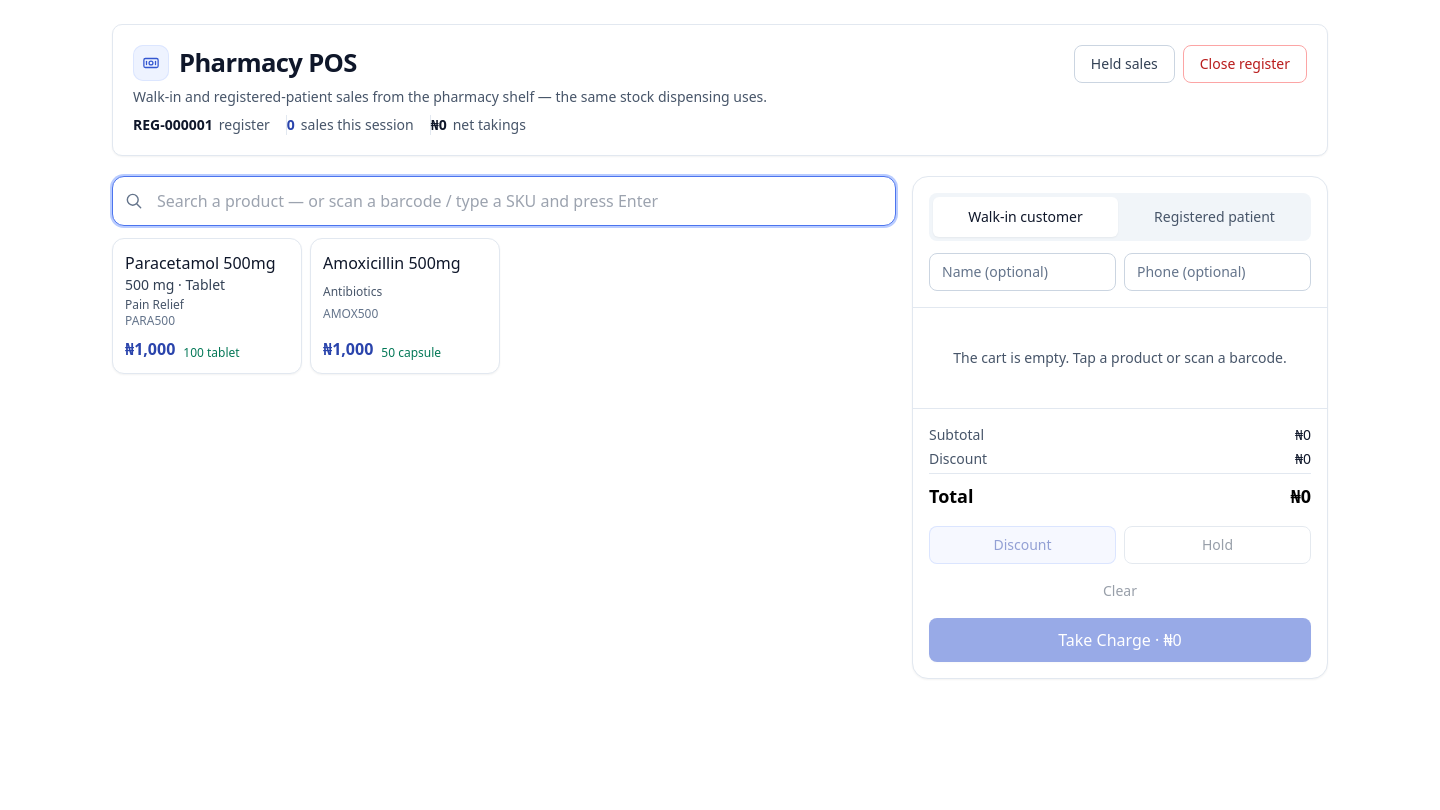
discounting one item › shows the original struck through and the net beside it
Click the button "Paracetamol 500mg": (207, 306) [112,238,302,374]
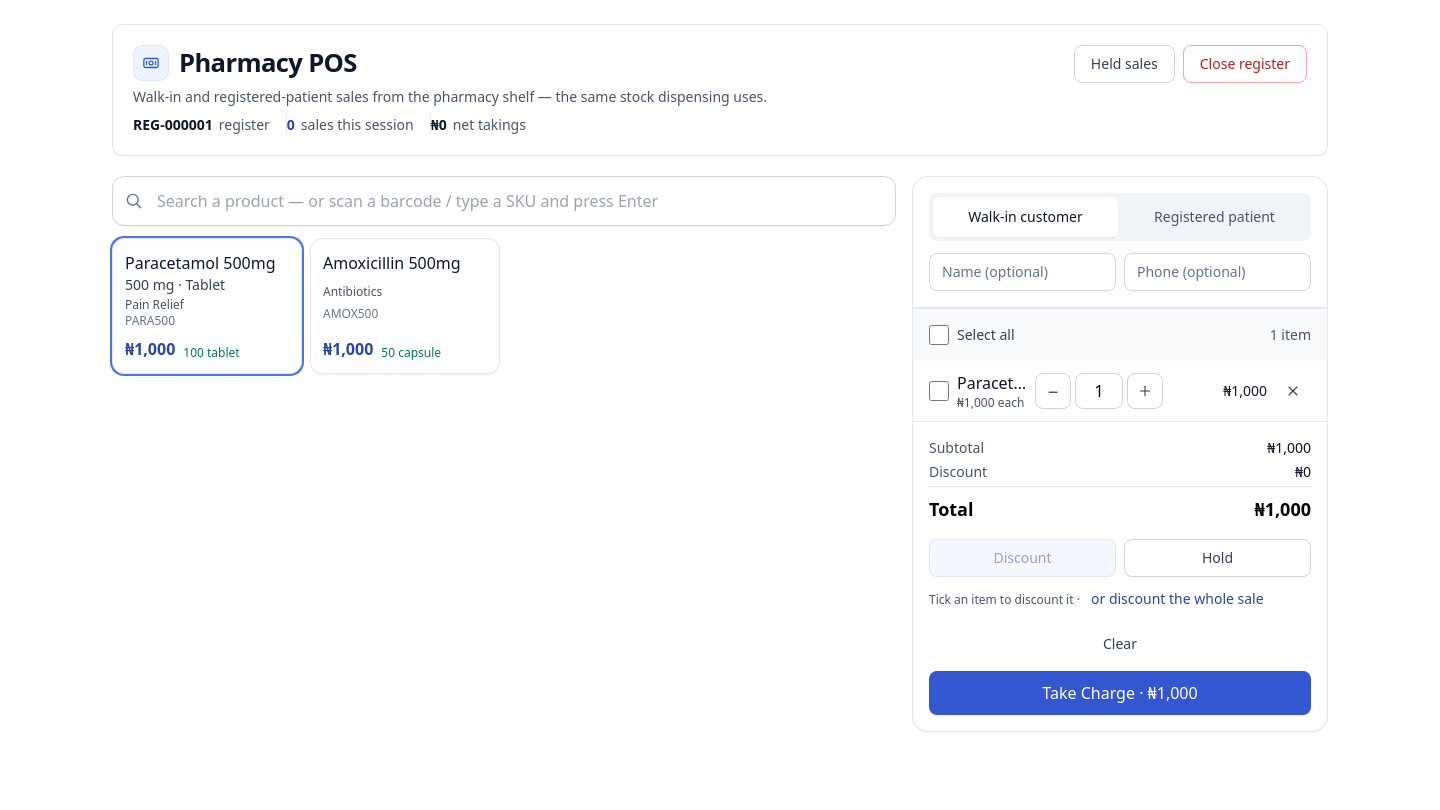
Click the checkbox named "Select Paracetamol 500mg": (939, 391) [929,381,949,401]
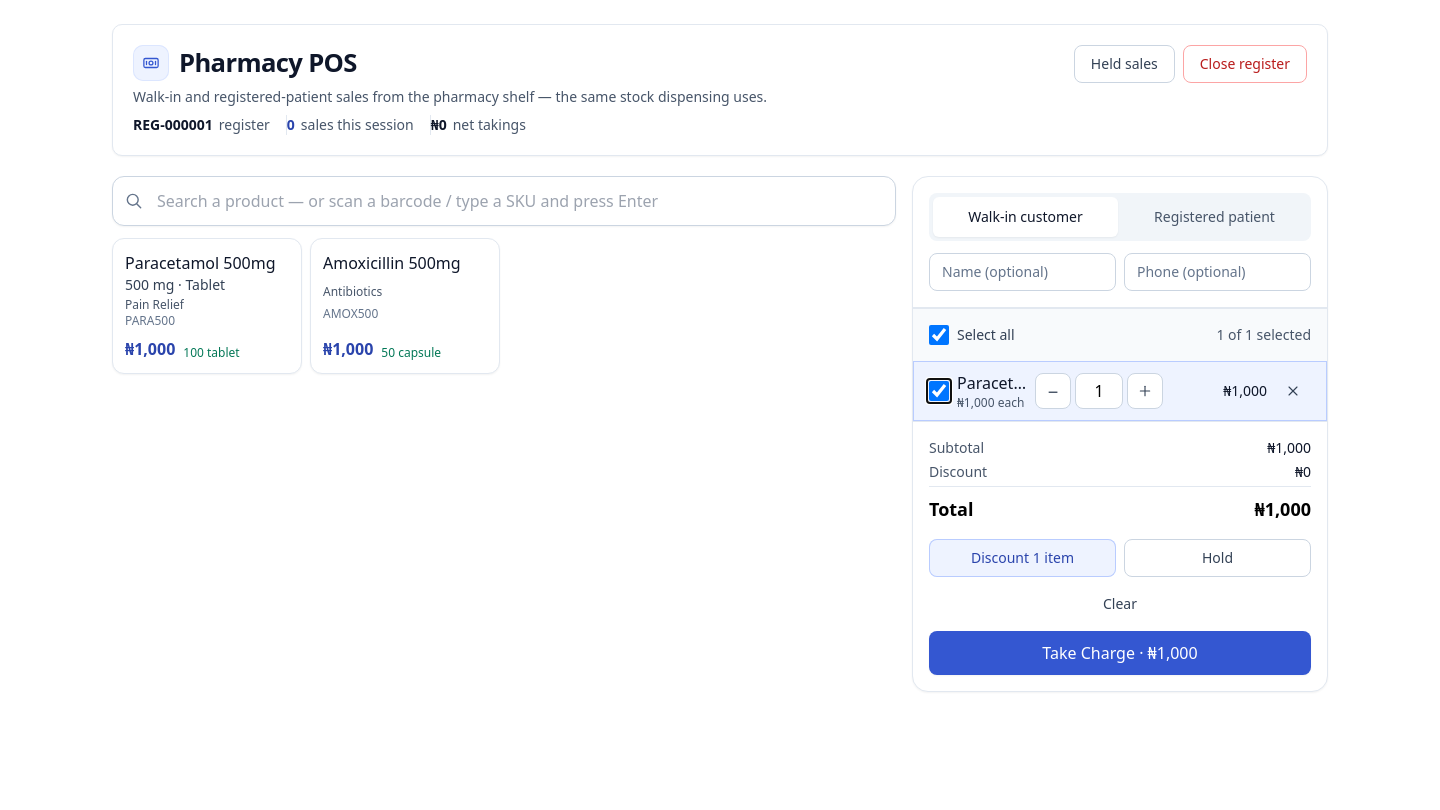
Click the button "Discount 1 item": (1022, 558) [929,539,1116,577]
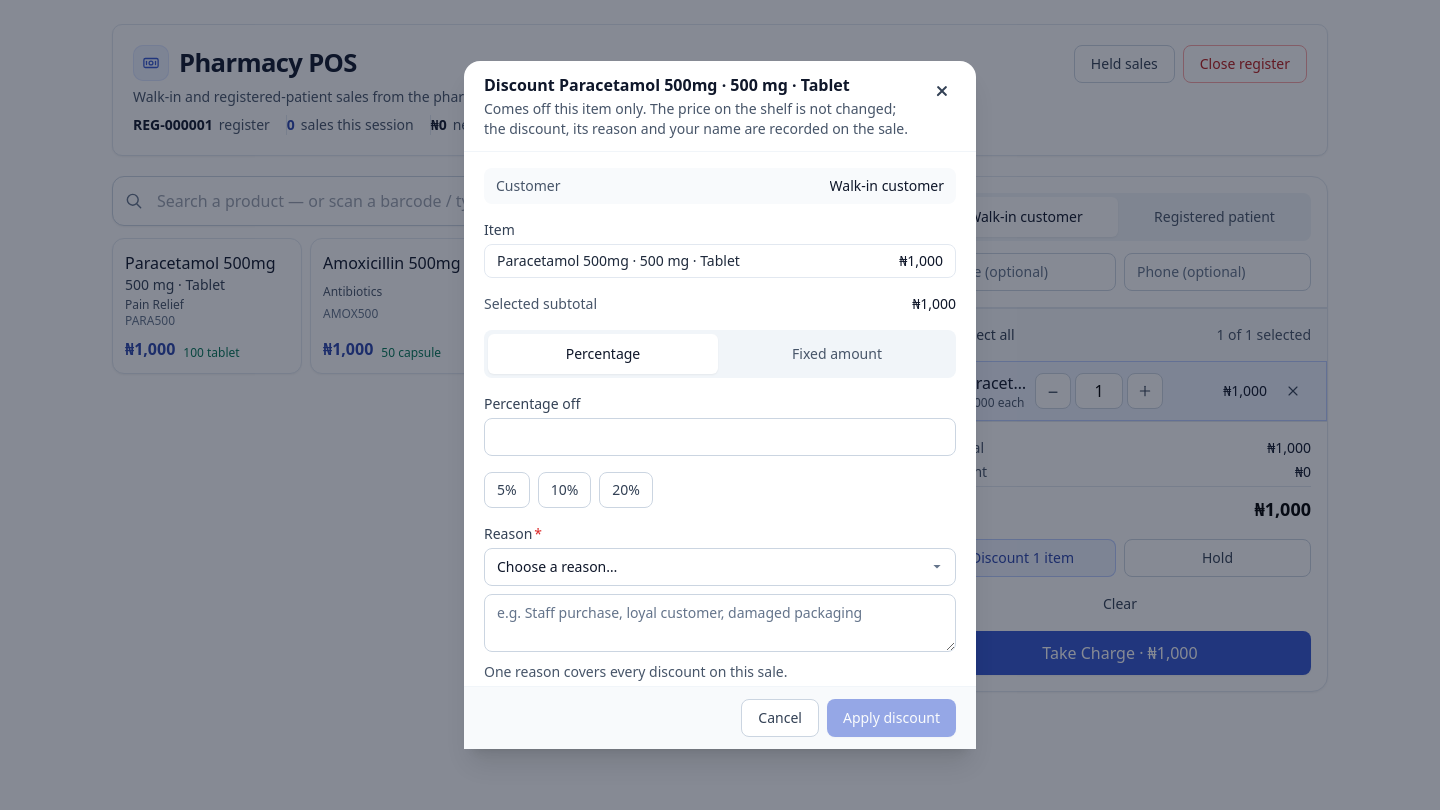
In the number field labelled "Percentage off": (720, 437) [484,418,956,456], type "10"
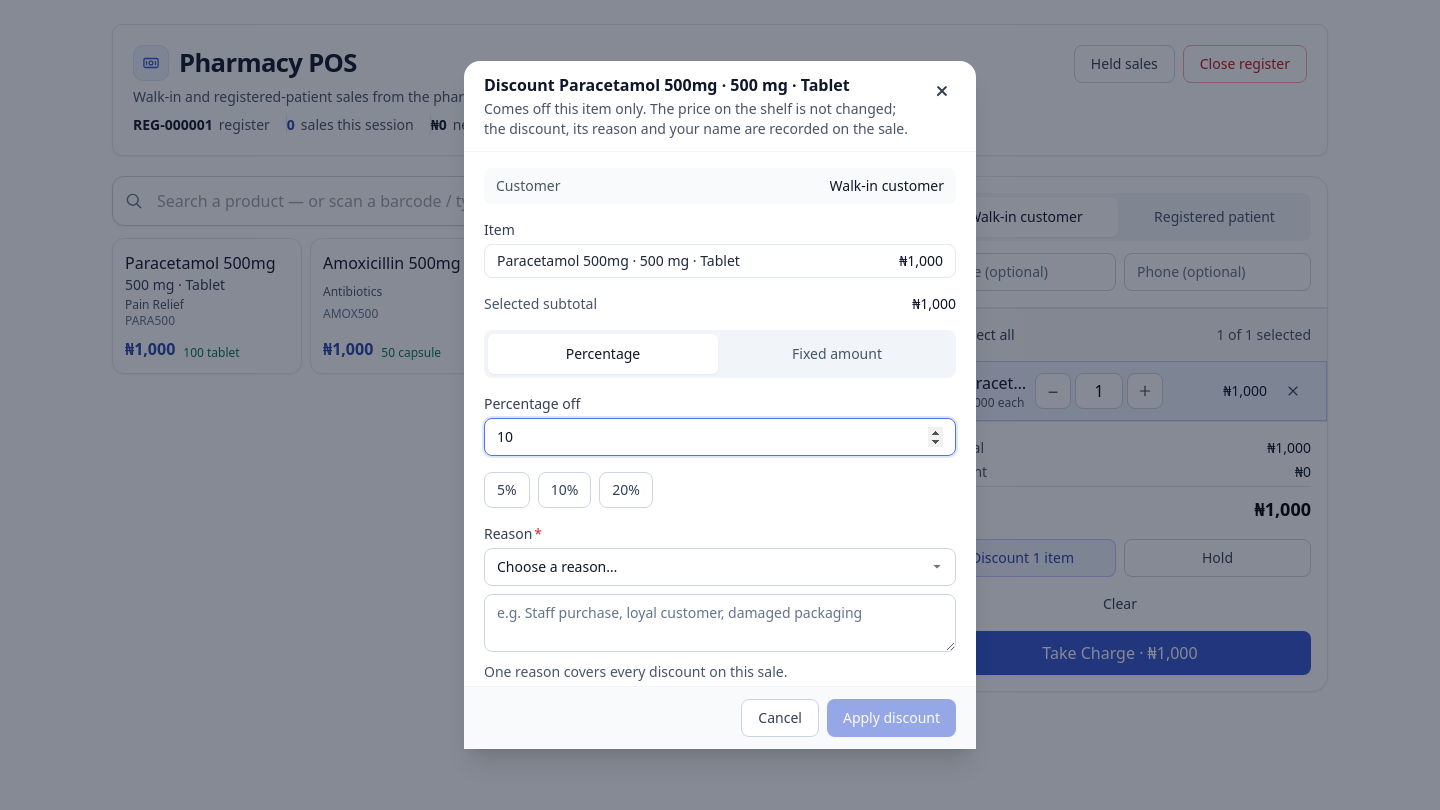
In the text box with placeholder "e.g. Staff purchase, loyal customer, damaged packaging": (720, 623) [484,594,956,652], type "Loyal customer"
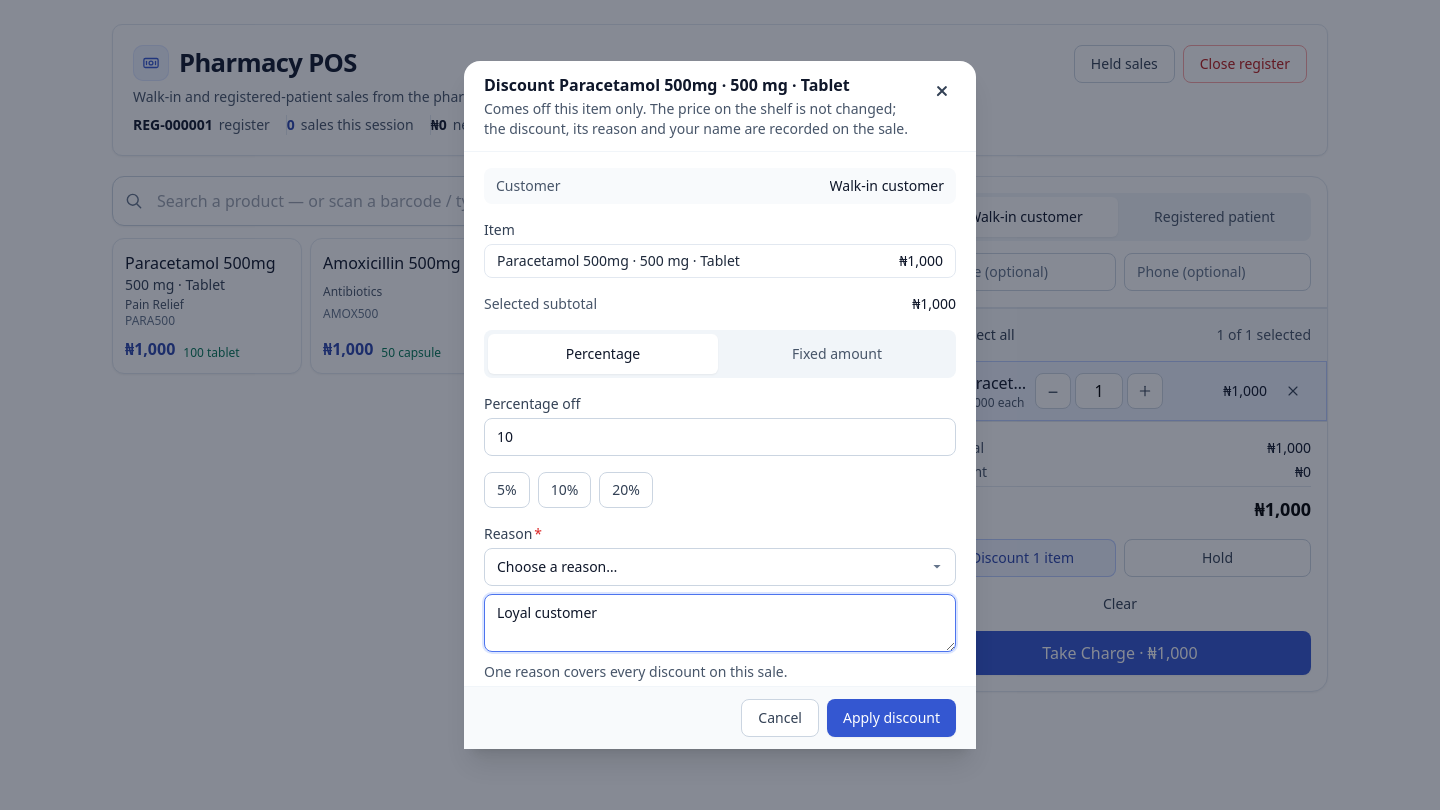
Click the button "Apply discount": (892, 718) [827,699,956,737]
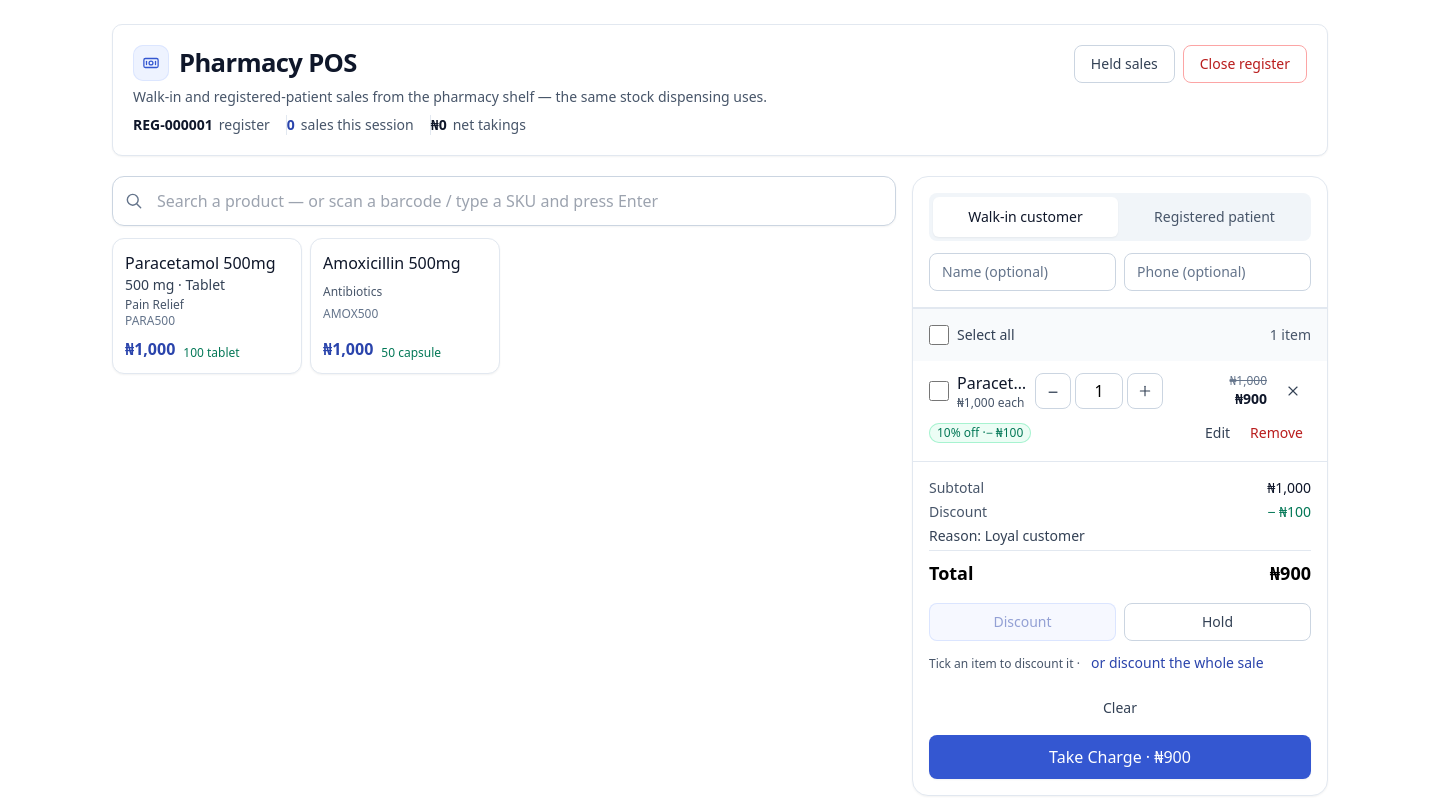
Check: the text "₦900" next to "Paracetamol 500mg · 500 mg · Tablet" is shown, box [1235,389,1267,408]
Check: the text "10% off · − ₦100" is shown, box [929,423,1031,443]
